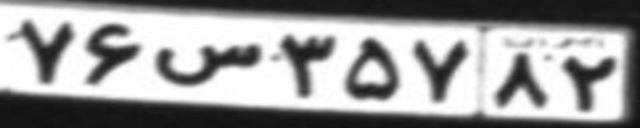2: (560, 55, 618, 111)
3: (279, 33, 336, 97)
5: (345, 36, 401, 99)
6: (81, 21, 141, 85)
7: (413, 37, 471, 101), (20, 19, 73, 83)
8: (488, 51, 547, 108)
sin: (155, 42, 263, 86)
